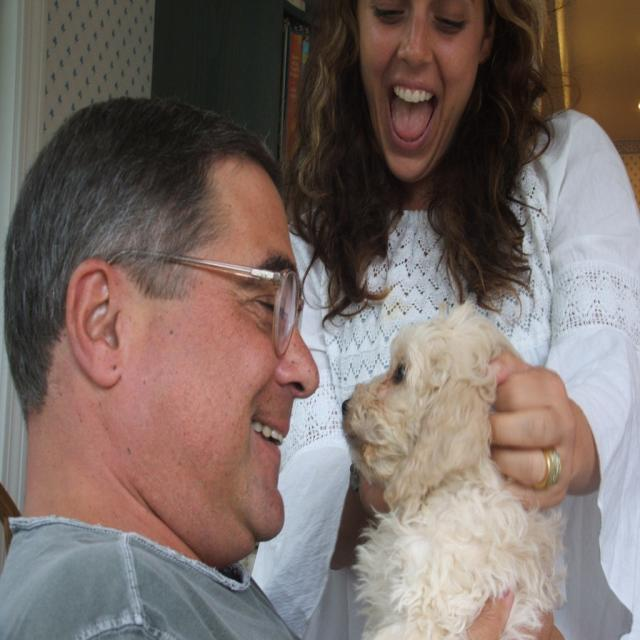Dog: (340, 304, 568, 638)
